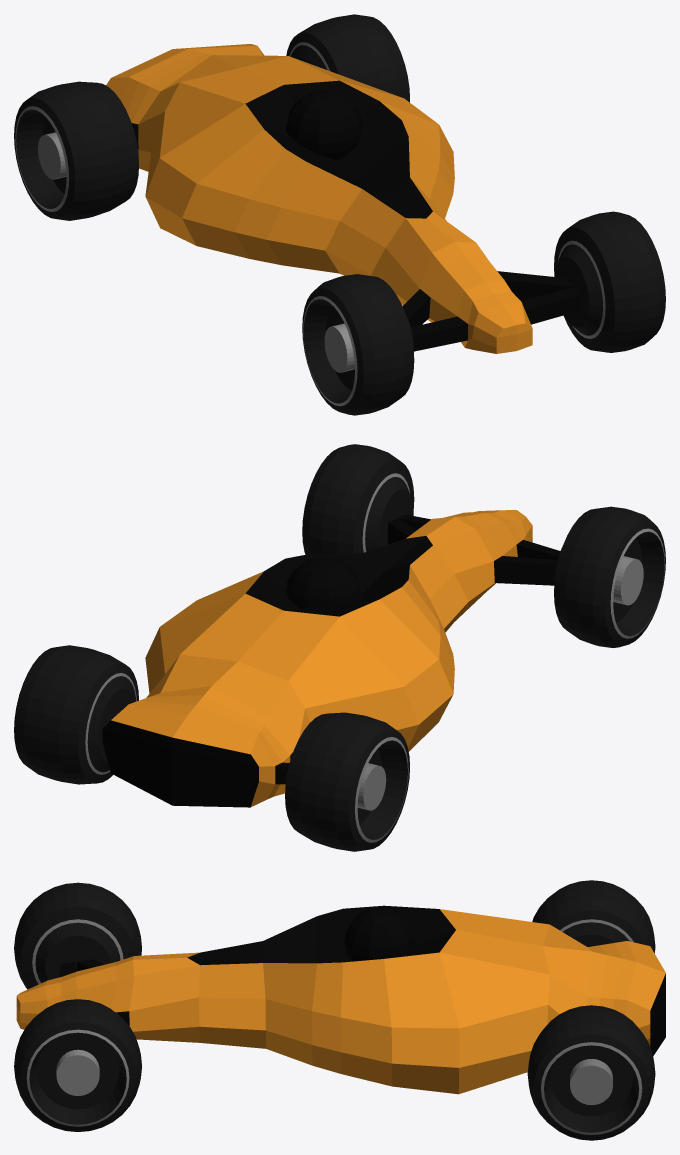
The model's file is car.glb.
3 renders of one model, top to bottom at view 1: azimuth 30°, elevation 25°; view 2: azimuth 150°, elevation 25°; view 3: azimuth 270°, elevation 25°, orthographic. The views are drawn at different scales.
Parts seen in each view (by area): view 1: Cube, WheelBackRight, WheelFrontRight, WheelFrontLeft, WheelBackLeft; view 2: Cube, WheelBackRight, WheelFrontRight, WheelBackLeft, WheelFrontLeft; view 3: Cube, WheelBackLeft, WheelFrontLeft, WheelFrontRight, WheelBackRight.
Part boxes in pixels (x1,y1,x2,y2): Cube: (106,44,580,353); WheelBackRight: (14,81,138,220); WheelFrontRight: (302,274,414,415); WheelFrontLeft: (554,211,665,352); WheelBackLeft: (286,14,409,102); Cube: (102,510,560,807); WheelBackRight: (285,712,409,851); WheelFrontRight: (554,506,665,647); WheelBackLeft: (14,645,138,784); WheelFrontLeft: (302,444,414,554); Cube: (16,905,665,1094); WheelBackLeft: (527,1005,655,1140); WheelFrontLeft: (14,999,141,1131); WheelFrontRight: (14,882,141,989); WheelBackRight: (532,880,655,953).
Size of the model in its own units: 2.19 by 1.03 by 3.83.
